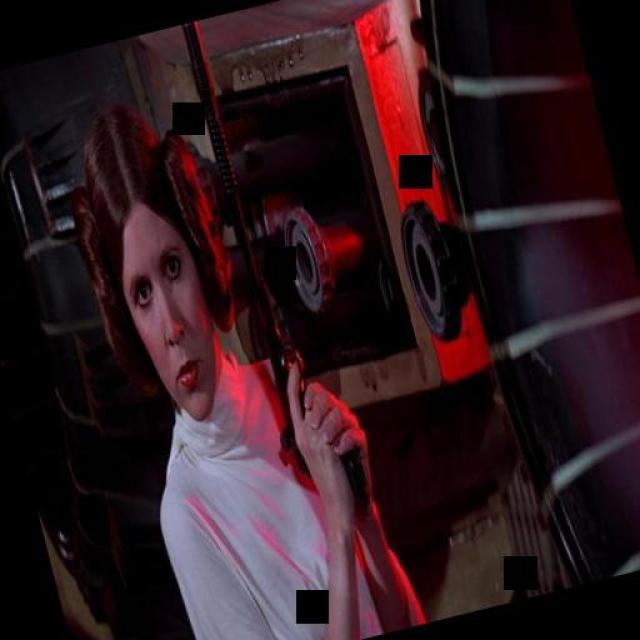gun: (208, 205, 382, 511)
